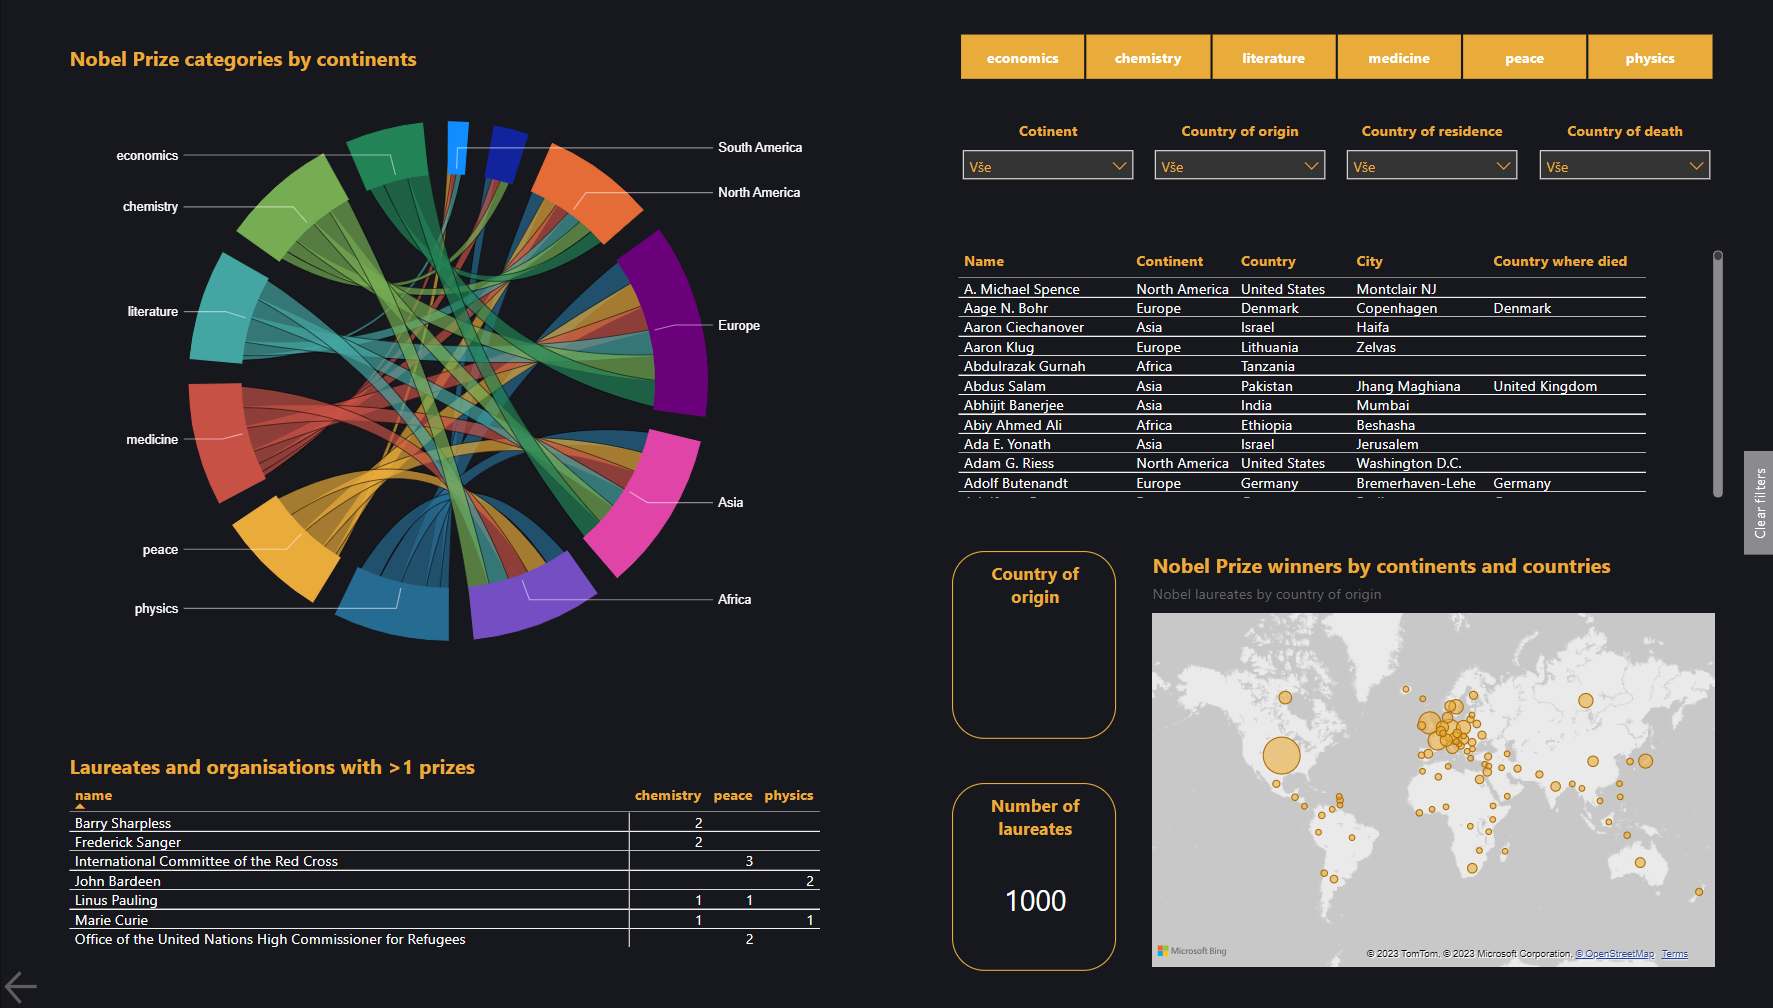

What the dashboard file says about the page in this screenshot:
{"tool":"powerbi","page":{"name":"Nobel Prize 2","canvas":[1644,936],"ordinal":2},"visuals":[{"type":"ChordChart1444757060245","title":"Nobel Prize categories by continents","fields":{"Category":["NobelPrizeWinners.category"],"Series":["Continents.countryContinents"],"Y":["Continents.countryContinents"]},"box":[59.7,42.9,711.9,599.3],"z":0},{"type":"slicer","title":"Category","fields":{"Values":["NobelPrizeWinners19012023.category"]},"box":[864,26.9,745.5,55.5],"z":1000},{"type":"map","title":"Nobel Prize winners by continents and countries","fields":{"Size":["NobelPrizeWinners19012023.bornCountry"],"Category":["NobelPrizeWinners19012023.Země původu"]},"box":[1062.8,511.9,531.2,389.7],"z":2000},{"type":"slicer","title":"Country of origin","fields":{"Values":["NobelPrizeWinners.bornCountry"]},"box":[1059.8,113.9,178.1,75],"z":3000,"group":"g1"},{"type":"card","title":"Number of laureates","fields":{"Values":["NobelPrizeWinners19012023.Země původu"]},"box":[881.7,727.1,152,174],"z":3000},{"type":"slicer","title":"Cotinent","fields":{"Values":["Continents.countryContinents"]},"box":[881.7,113.9,178.1,75],"z":4000,"group":"g1"},{"type":"tableEx","fields":{"Values":["NobelPrizeWinners.fullName","Continents.continentsHierarchie.continent","Continents.continentsHierarchie.country","NobelPrizeWinners.city","NobelPrizeWinners.diedCountry"]},"box":[881.7,228.8,718.7,239],"z":4000},{"type":"slicer","title":"Country of death","fields":{"Values":["NobelPrizeWinners.diedCountry"]},"box":[1415.9,113.9,178.1,75],"z":5000,"group":"g1"},{"type":"card","title":"Country of origin","fields":{"Values":["NobelPrizeWinners19012023.Země původu"]},"box":[881.7,512.3,152,174],"z":5000},{"type":"pivotTable","title":"Laureates and organisations with >1 prizes","fields":{"Values":["NobelPrizeWinners.category"],"Rows":["NobelPrizeWinners.Name"],"Columns":["NobelPrizeWinners.category"]},"box":[59.7,698.4,711.9,203.4],"z":6000},{"type":"slicer","title":"Country of residence","fields":{"Values":["NobelPrizeWinners.organizationCountry"]},"box":[1237.8,113.9,178.1,75],"z":6001,"group":"g1"},{"type":"actionButton","box":[0,896.6,40,40],"z":7000},{"type":"group","id":"g1","title":"Skupina 1","box":[881.7,113.9,712.2,75],"z":8000},{"type":"actionButton","title":"Clear filter","box":[1615.3,419.6,28.7,96.3],"z":9000}]}

Visuals, with their boxes in screenshot pixels (x1, y1, x2, y2), scaled from the page's 1644x936 canvas onto the 1773x1008 screenshot:
"Nobel Prize categories by continents" ChordChart1444757060245: BBox(64, 46, 832, 692)
"Category" slicer: BBox(932, 29, 1736, 89)
"Nobel Prize winners by continents and countries" map: BBox(1146, 551, 1719, 971)
"Country of origin" slicer: BBox(1143, 123, 1335, 203)
"Number of laureates" card: BBox(951, 783, 1115, 970)
"Cotinent" slicer: BBox(951, 123, 1143, 203)
tableEx - NobelPrizeWinners.fullName x Continents.continentsHierarchie.continent: BBox(951, 246, 1726, 504)
"Country of death" slicer: BBox(1527, 123, 1719, 203)
"Country of origin" card: BBox(951, 552, 1115, 739)
"Laureates and organisations with >1 prizes" pivotTable: BBox(64, 752, 832, 971)
"Country of residence" slicer: BBox(1335, 123, 1527, 203)
actionButton: BBox(0, 966, 43, 1007)
"Skupina 1" group: BBox(951, 123, 1719, 203)
"Clear filter" actionButton: BBox(1742, 452, 1772, 556)
